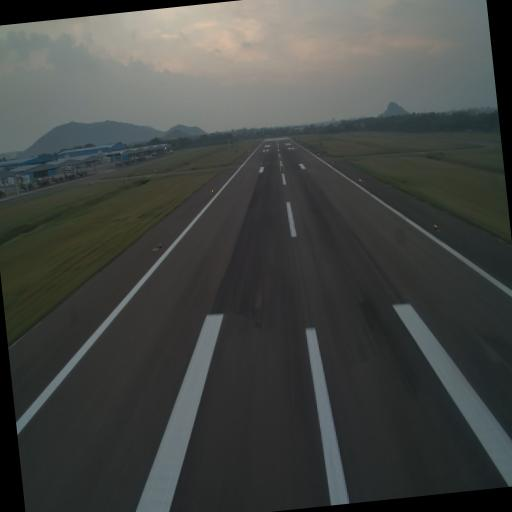off: (157, 240, 164, 252)
on: (432, 222, 439, 232), (209, 188, 215, 195), (358, 177, 362, 184)
